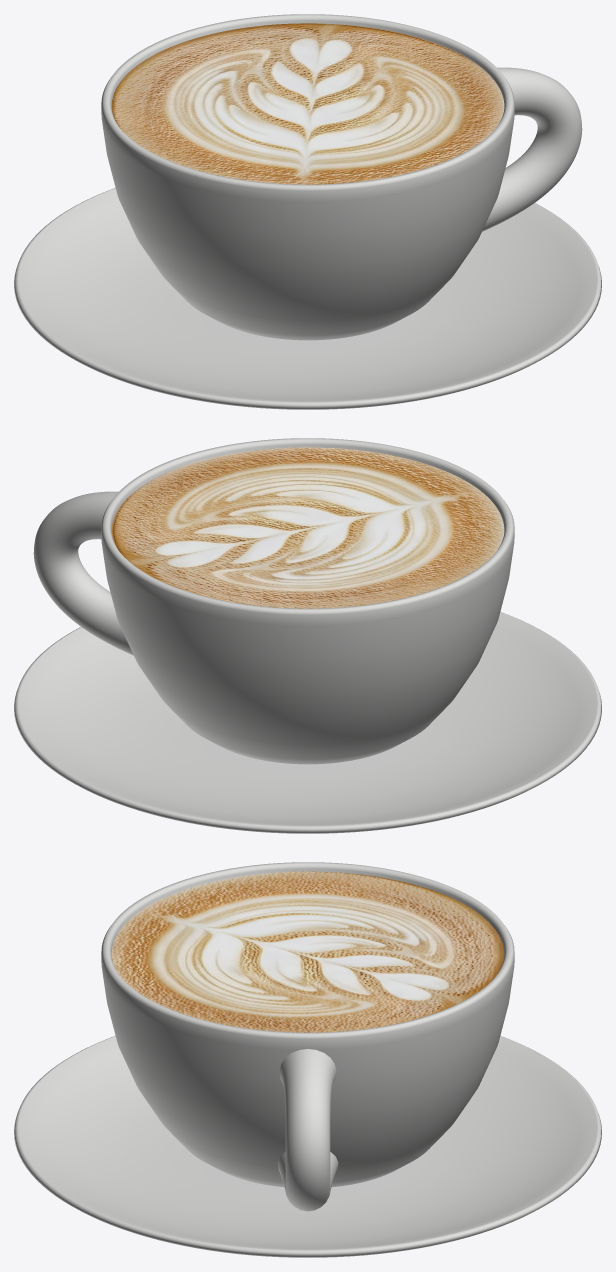
File: brew-latte.glb
3 renders of one model, top to bottom at view 1: azimuth 30°, elevation 25°; view 2: azimuth 150°, elevation 25°; view 3: azimuth 270°, elevation 25°, orthographic.
Visible parts, largest first — view 1: Porcelain saucer, Porcelain cup, Latte art, Handle; view 2: Porcelain saucer, Porcelain cup, Latte art, Handle; view 3: Porcelain saucer, Porcelain cup, Latte art, Handle.
Boxes of the visible parts, x1=… form: Porcelain saucer: x1=14, y1=188, x2=601, y2=409; Porcelain cup: x1=101, y1=14, x2=514, y2=340; Latte art: x1=111, y1=23, x2=504, y2=184; Handle: x1=482, y1=67, x2=582, y2=231; Porcelain saucer: x1=14, y1=612, x2=601, y2=833; Porcelain cup: x1=101, y1=438, x2=514, y2=764; Latte art: x1=111, y1=447, x2=504, y2=608; Handle: x1=33, y1=491, x2=133, y2=655; Porcelain saucer: x1=14, y1=1036, x2=601, y2=1257; Porcelain cup: x1=101, y1=862, x2=514, y2=1187; Latte art: x1=111, y1=871, x2=504, y2=1032; Handle: x1=277, y1=1049, x2=338, y2=1211.
Bounding box in the file's own units: 2.5 × 0.97 × 2.42.
Materials: 2 (1 with a texture image).
